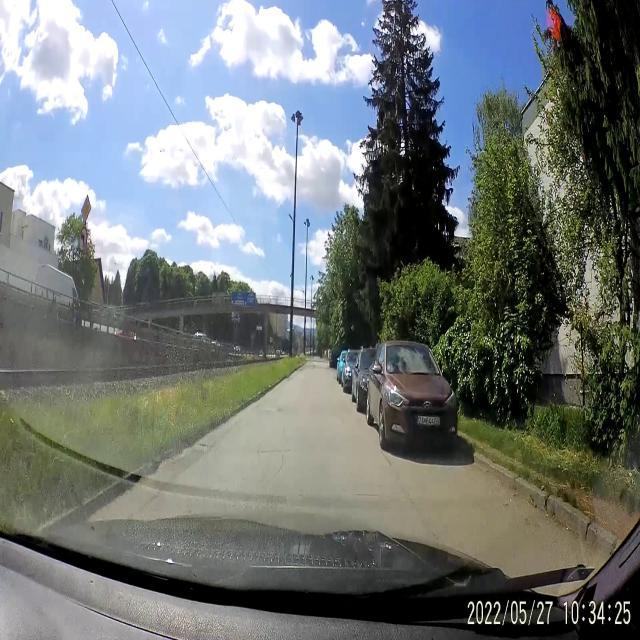Pothole: (262, 400, 286, 420)
